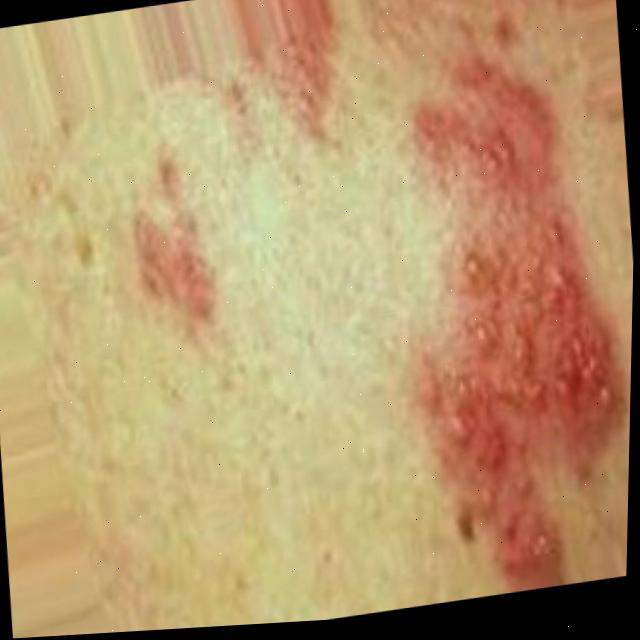Shingles: (363, 47, 638, 603), (115, 194, 226, 348), (249, 26, 360, 146)
